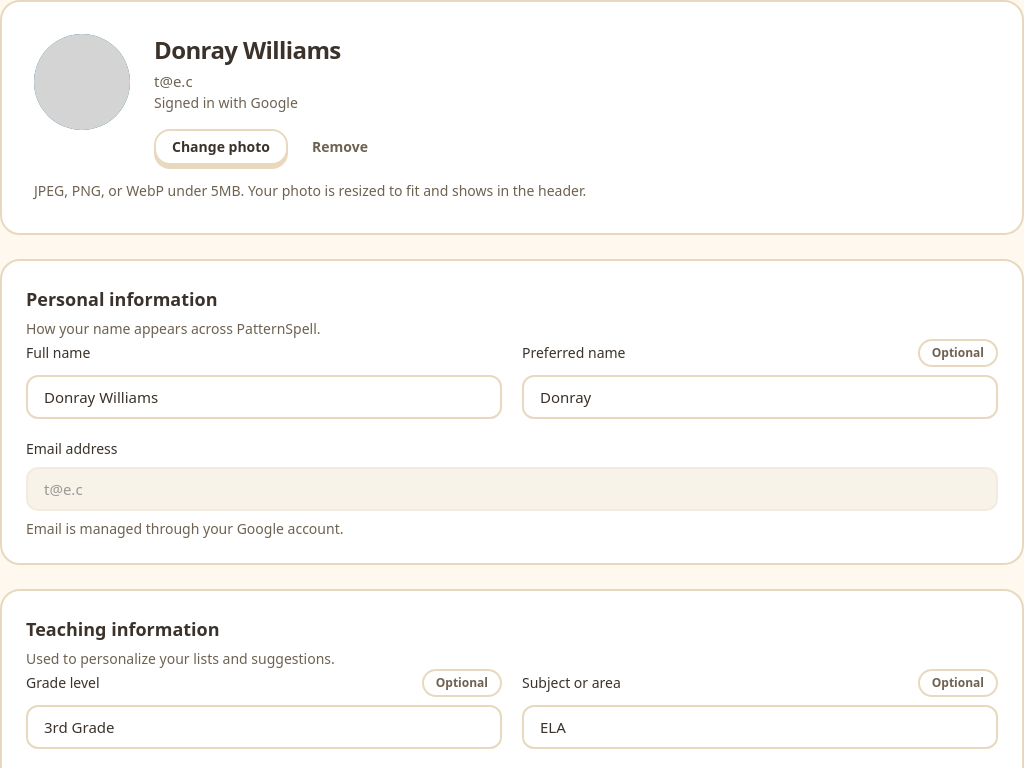
Test: ProfileForm › profile photo › removes the photo and saves immediately
Expected: the field labelled "Full name" is enabled, [26,374,502,418]
Click the button "Remove" at (340, 146), box [296,128,384,164]
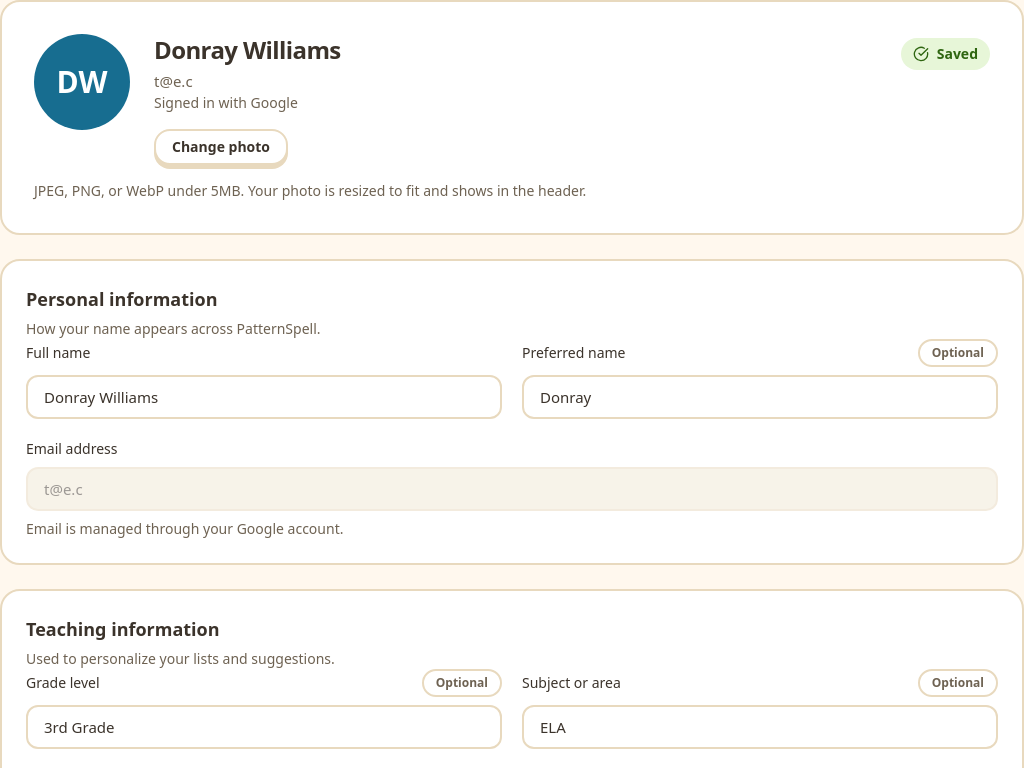
Now the picture is gone
